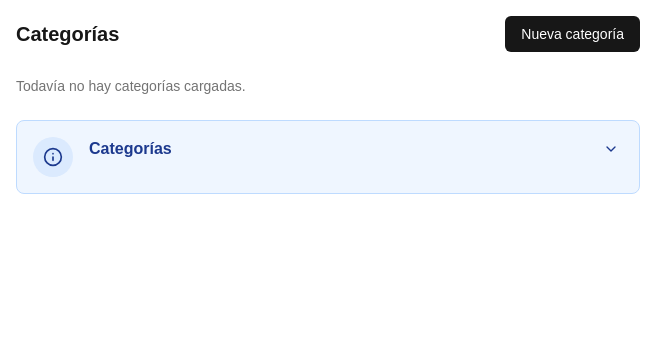
Test case: shows translated error when create fails
Click the button "Nueva categoría" at [573, 34], box [505,16,640,52]
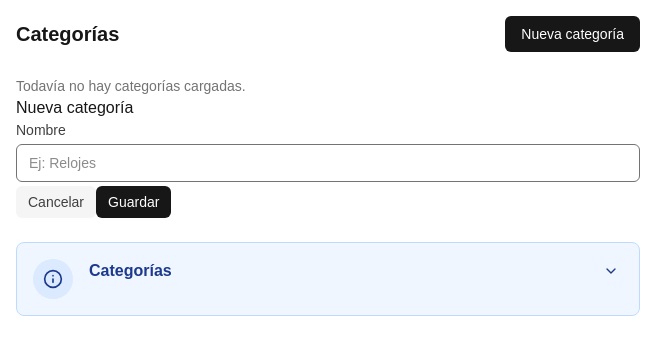
Type "Phones" into the field with placeholder "Ej: Relojes" at [328, 163], box [16,144,640,182]
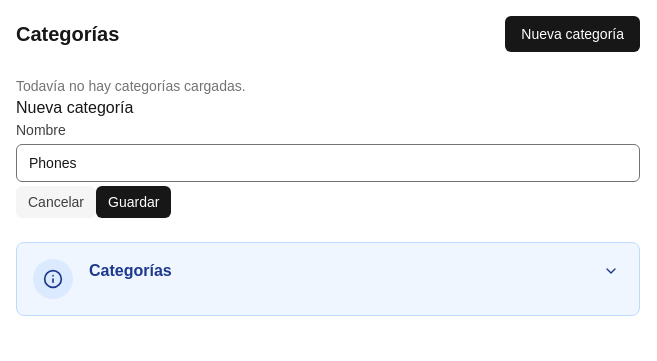
Click the button "Guardar" at [134, 202], box [96,186,171,218]
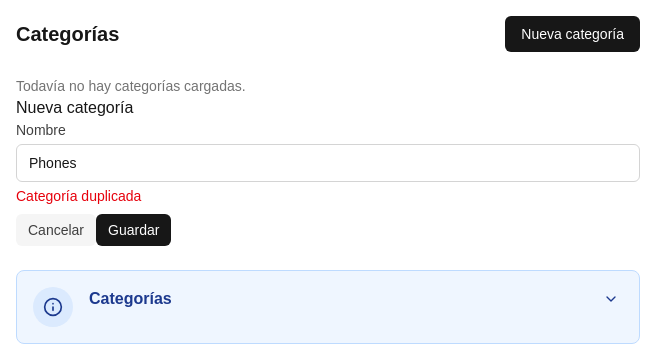
Expected: the text "Categoría duplicada" is shown, [16,188,141,204]
